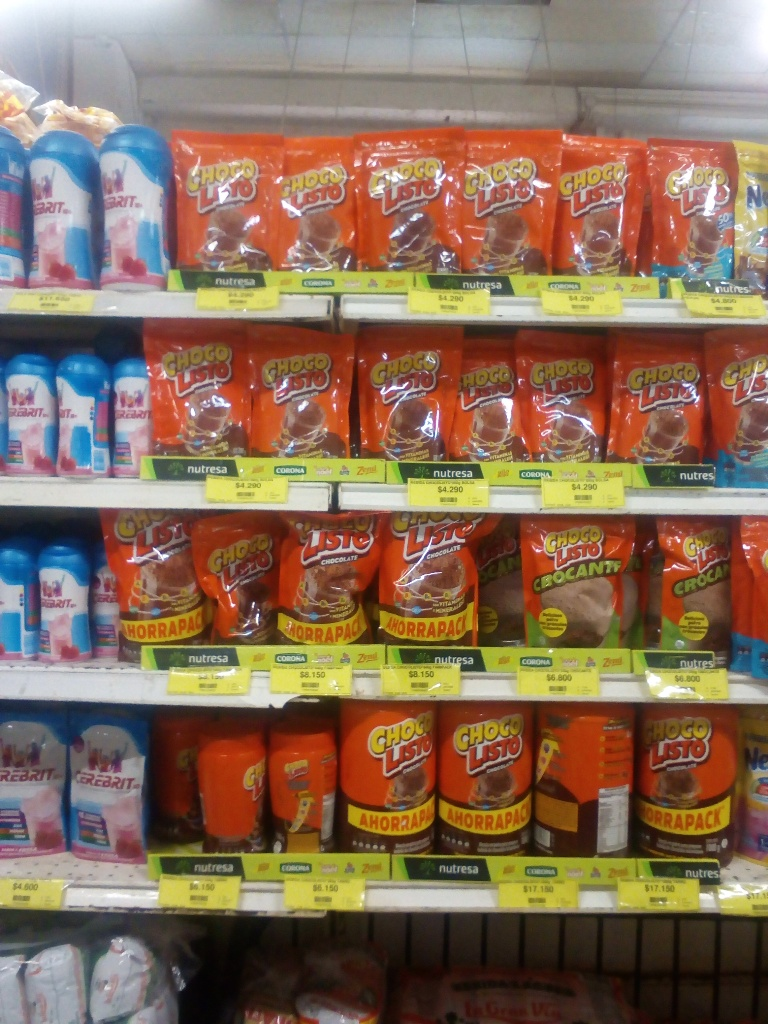COL0170102DYP25000: (519, 518, 637, 646)
COL0170103DYP20000: (171, 130, 281, 271)
COL0170103DYP36000: (275, 520, 371, 648)
COL0170103DYP44000: (100, 507, 212, 648)
COL0170103TRR00100: (343, 700, 439, 855)
COL0170103TRR30000: (156, 716, 201, 840)
COL0170104DYP20000: (647, 136, 735, 282)
